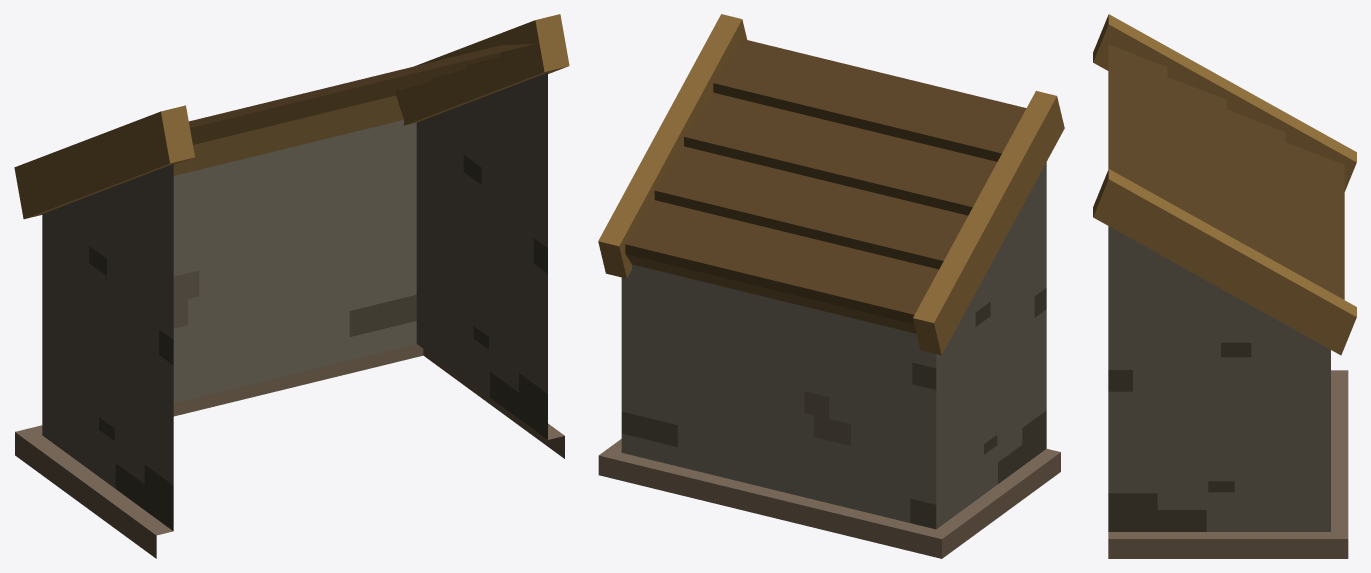
Rendered from SF_Bld_HouseAdd_StoneRoom_01.fbx.
The picture shows the model from 3 angles, left to right: view 1: azimuth 30°, elevation 25°; view 2: azimuth 150°, elevation 25°; view 3: azimuth 270°, elevation 25°; orthographic projection. The views are drawn at different scales.
Visible parts, largest first — view 1: SF_Bld_HouseAdd_StoneRoom_01; view 2: SF_Bld_HouseAdd_StoneRoom_01; view 3: SF_Bld_HouseAdd_StoneRoom_01.
Part boxes in pixels (left/top/right/bottom): SF_Bld_HouseAdd_StoneRoom_01: left=14, top=14, right=569, bottom=558; SF_Bld_HouseAdd_StoneRoom_01: left=598, top=14, right=1064, bottom=558; SF_Bld_HouseAdd_StoneRoom_01: left=1093, top=14, right=1356, bottom=558.
Size of the model in its own units: 5.27 by 5.5 by 3.48.
